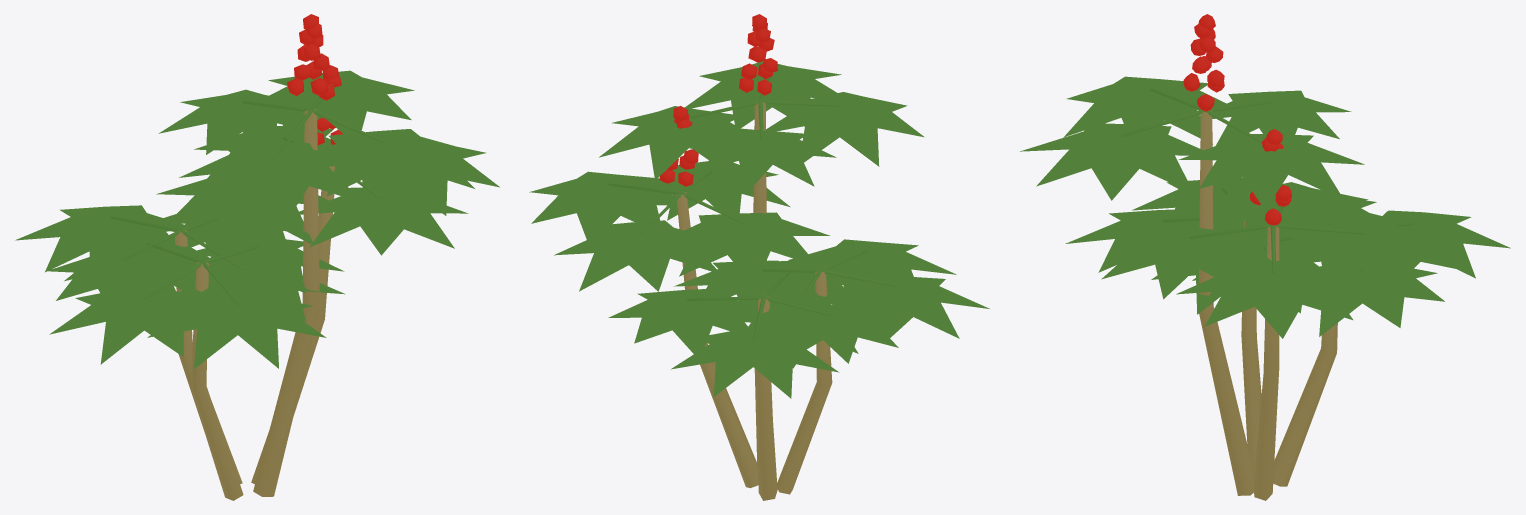
Rendered from Blender_DevilsClub_1.glb.
The picture shows the model from 3 angles, left to right: view 1: azimuth 30°, elevation 25°; view 2: azimuth 150°, elevation 25°; view 3: azimuth 270°, elevation 25°; orthographic projection. The views are drawn at different scales.
Parts seen in each view (by area): view 1: Blender_DevilsClub_1; view 2: Blender_DevilsClub_1; view 3: Blender_DevilsClub_1.
Part boxes in pixels (box(x1,y1,x2,y2)): Blender_DevilsClub_1: box(15, 14, 499, 500); Blender_DevilsClub_1: box(529, 14, 989, 500); Blender_DevilsClub_1: box(1020, 14, 1510, 500).
Size of the model in its own units: 2.43 by 2.51 by 2.27.
